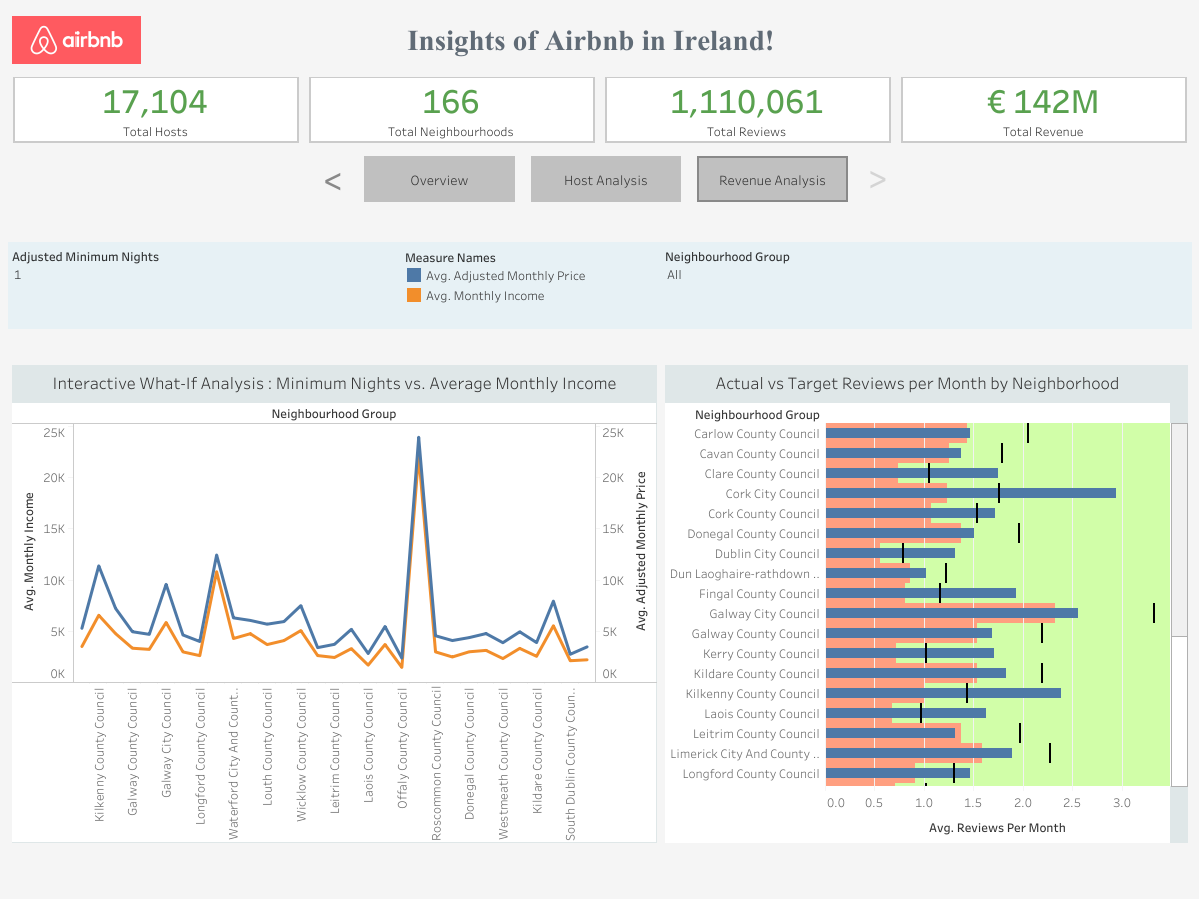

This screenshot's page, from the dashboard's own definition file:
{"tool":"tableau","page":{"name":"Airbnb - Revenue","canvas":[1200,900],"ordinal":2},"visuals":[{"type":"image","param":"Image/airbnb_logo_detail.jpeg","box":[8,8,137,64]},{"type":"text","box":[145,8,892,64]},{"type":"worksheet","title":"Total Hosts","mark":"Automatic","box":[8,72,296,76]},{"type":"worksheet","title":"Total Neighbourhoods","mark":"Automatic","box":[304,72,296,76]},{"type":"worksheet","title":"Total Reviews","mark":"Automatic","box":[600,72,296,76]},{"type":"worksheet","title":"Total Revenue","mark":"Automatic","box":[896,72,296,76]},{"type":"blank","box":[8,148,292,62]},{"type":"blank","box":[300,148,56,62]},{"type":"dashboard-object","box":[356,148,167,62]},{"type":"dashboard-object","box":[523,148,166,62]},{"type":"dashboard-object","box":[689,148,167,62]},{"type":"blank","box":[856,148,40,62]},{"type":"blank","box":[896,148,296,62]},{"type":"dashboard-object","box":[856,155,43,45]},{"type":"dashboard-object","box":[312,157,43,45]},{"type":"blank","box":[8,210,1184,32]},{"type":"parameter","param":"[Parameters].[Parameter 2]","box":[8,242,392,87]},{"type":"legend","title":"Interactive What-If Analysis : Minimum Nights vs. Average Monthly Income","param":"[federated.0d6vh2y0uswwkz17mnpo40ihjz82].[:Measure Names]","box":[400,242,261,87]},{"type":"filter","title":"Actual vs Target Reviews per Month by Neighborhood","param":"[Clipboard_20230410T230647].[none:Neighbourhood Group:nk]","box":[661,242,531,87]},{"type":"blank","box":[8,329,1184,32]},{"type":"worksheet","title":"Interactive What-If Analysis : Minimum Nights vs. Average Monthly Income","mark":"Line","rows":["Calculation_4768186117689729034","Calculation_5158591911132360707"],"cols":["neighbourhood_group"],"box":[8,361,653,486]},{"type":"worksheet","title":"Actual vs Target Reviews per Month by Neighborhood","mark":"Automatic","rows":["Neighbourhood Group"],"cols":["reviews_per_month"],"box":[661,361,531,486]},{"type":"blank","box":[8,847,1184,45]}]}

Visuals, with their boxes in screenshot pixels (x1, y1, x2, y2), scaled from the page's 1200x900 canvas onto the 1199x899 screenshot:
image: detection(8, 8, 145, 72)
text: detection(145, 8, 1036, 72)
"Total Hosts" worksheet: detection(8, 72, 304, 148)
"Total Neighbourhoods" worksheet: detection(304, 72, 600, 148)
"Total Reviews" worksheet: detection(600, 72, 895, 148)
"Total Revenue" worksheet: detection(895, 72, 1191, 148)
blank: detection(8, 148, 300, 210)
blank: detection(300, 148, 356, 210)
dashboard-object: detection(356, 148, 523, 210)
dashboard-object: detection(523, 148, 688, 210)
dashboard-object: detection(688, 148, 855, 210)
blank: detection(855, 148, 895, 210)
blank: detection(895, 148, 1191, 210)
dashboard-object: detection(855, 155, 898, 200)
dashboard-object: detection(312, 157, 355, 202)
blank: detection(8, 210, 1191, 242)
parameter: detection(8, 242, 400, 329)
"Interactive What-If Analysis : Minimum Nights vs. Average Monthly Income" legend: detection(400, 242, 660, 329)
"Actual vs Target Reviews per Month by Neighborhood" filter: detection(660, 242, 1191, 329)
blank: detection(8, 329, 1191, 361)
"Interactive What-If Analysis : Minimum Nights vs. Average Monthly Income" worksheet (Line marks): detection(8, 361, 660, 846)
"Actual vs Target Reviews per Month by Neighborhood" worksheet: detection(660, 361, 1191, 846)
blank: detection(8, 846, 1191, 891)
